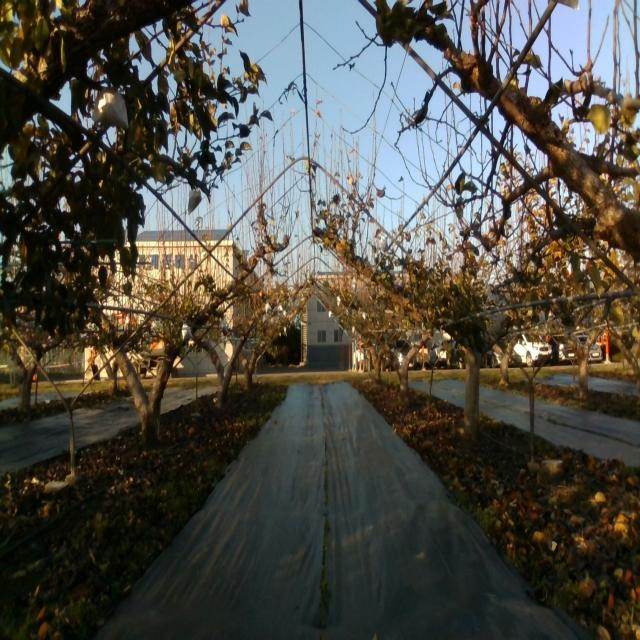pearbags: (92, 86, 130, 131), (188, 188, 201, 214)
